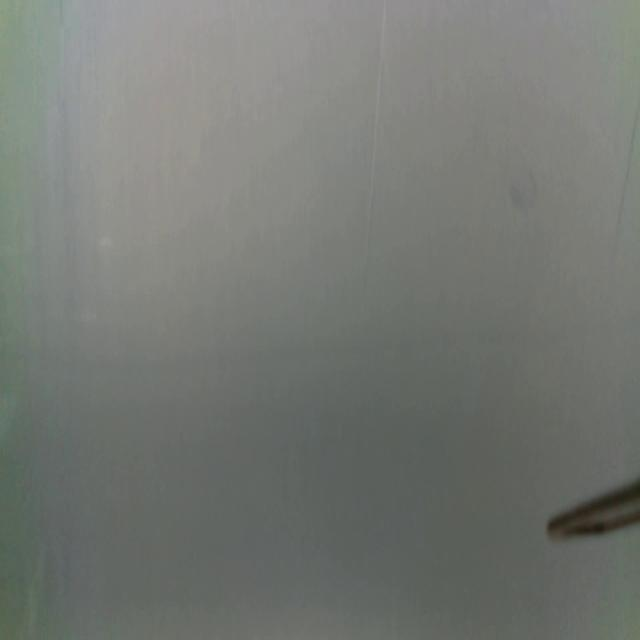crease: (364, 0, 390, 279)
